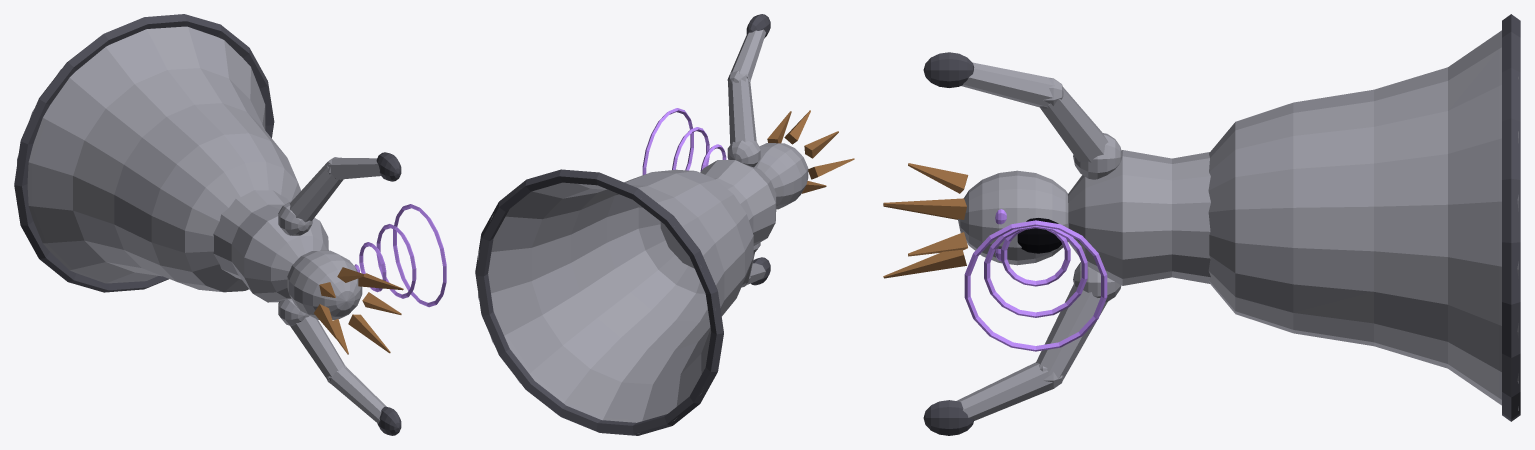
File: SopranoHueca.obj
The picture shows the model from 3 angles, left to right: view 1: azimuth 30°, elevation 25°; view 2: azimuth 150°, elevation 25°; view 3: azimuth 270°, elevation 25°; orthographic projection. The views are drawn at different scales.
Parts seen in each view (by area): view 1: SopranoHueca; view 2: SopranoHueca; view 3: SopranoHueca.
Part boxes in pixels (x1=…): SopranoHueca: x1=14, y1=14, x2=446, y2=435; SopranoHueca: x1=475, y1=14, x2=854, y2=435; SopranoHueca: x1=883, y1=14, x2=1520, y2=435.
Bounding box in the file's own units: 332 × 342 × 515.
